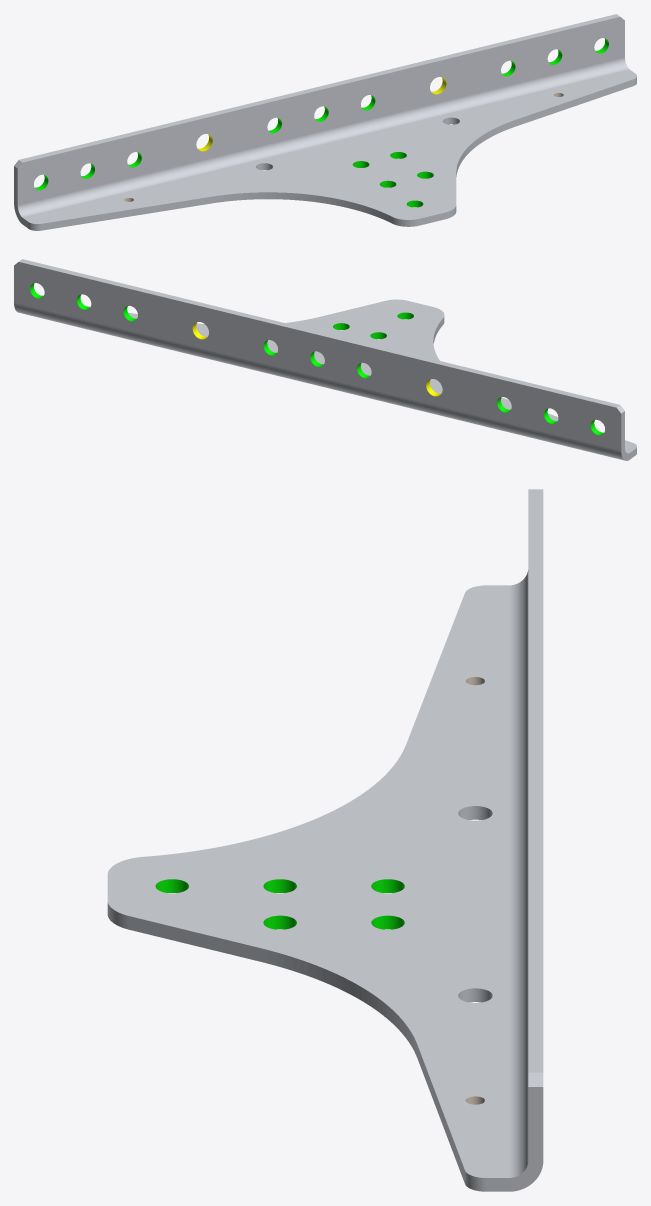
3 renders of one model, top to bottom at view 1: azimuth 30°, elevation 25°; view 2: azimuth 150°, elevation 25°; view 3: azimuth 270°, elevation 25°, orthographic. The views are drawn at different scales.
Parts seen in each view (by area): view 1: Node1, Node2; view 2: Node1, Node2; view 3: Node1, Node2.
Part boxes in pixels (x1,y1,x2,y2): Node1: [14, 14, 636, 230]; Node2: [35, 38, 608, 207]; Node1: [14, 259, 636, 460]; Node2: [30, 283, 603, 435]; Node1: [107, 489, 543, 1191]; Node2: [155, 879, 404, 929].
Size of the model in its own units: 650 by 58.5 by 202.
